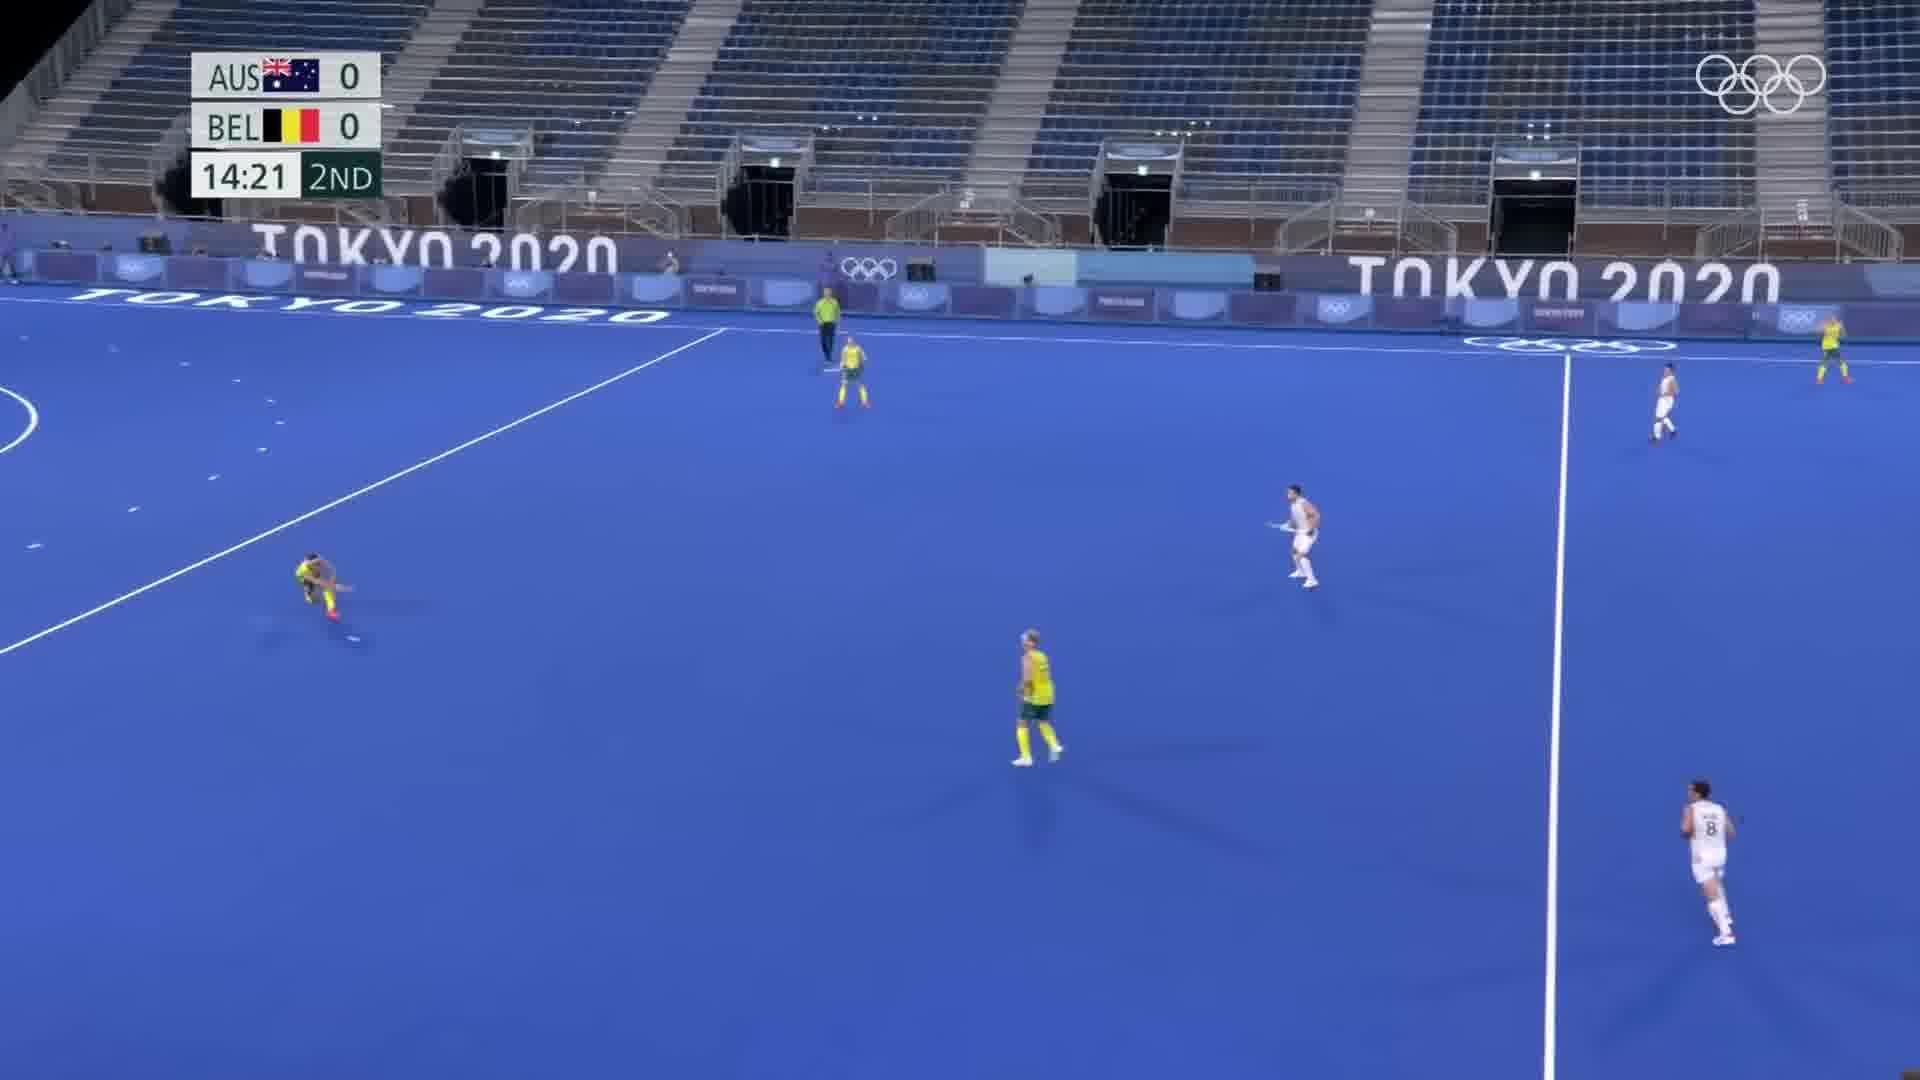ball: (342, 624, 364, 649)
